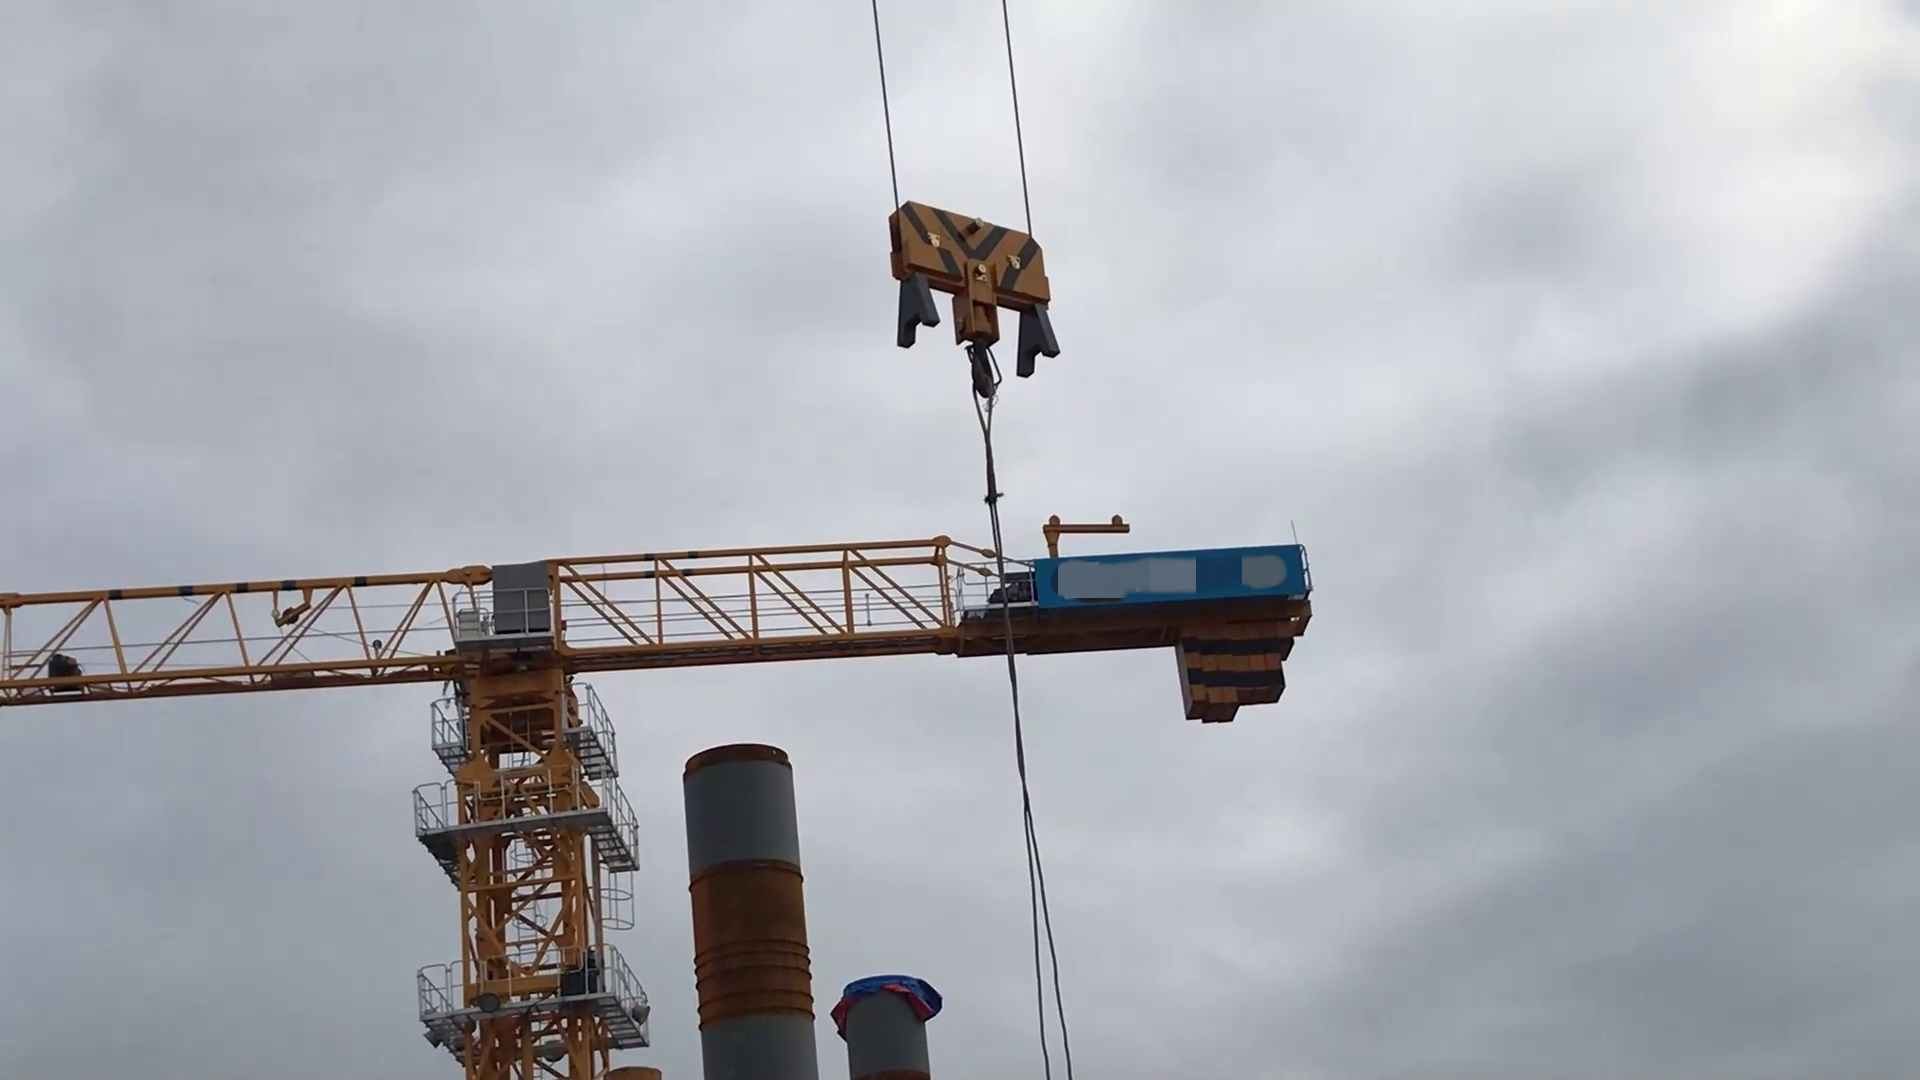hook: (876, 190, 1073, 413)
